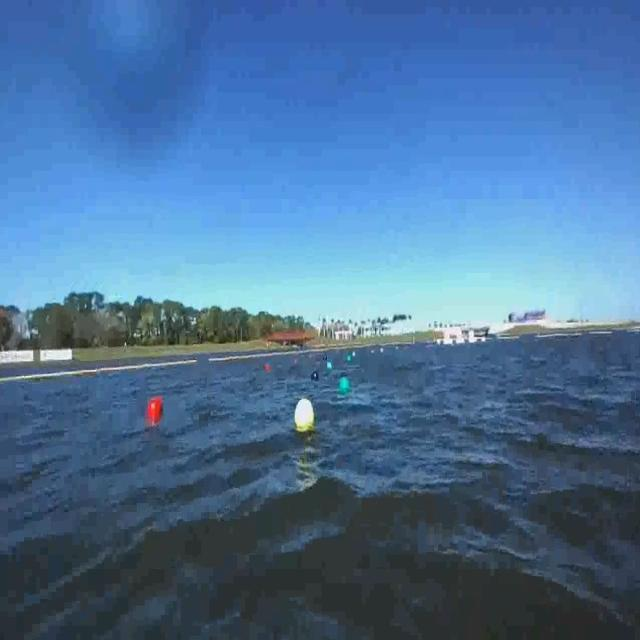black-buoy: (311, 371, 320, 383)
green-buoy: (340, 373, 352, 393)
red-buoy: (148, 396, 164, 414)
yellow-buoy: (294, 398, 314, 432)
